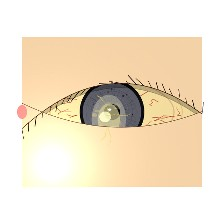corneal_ulcer: (83, 99, 135, 140)
